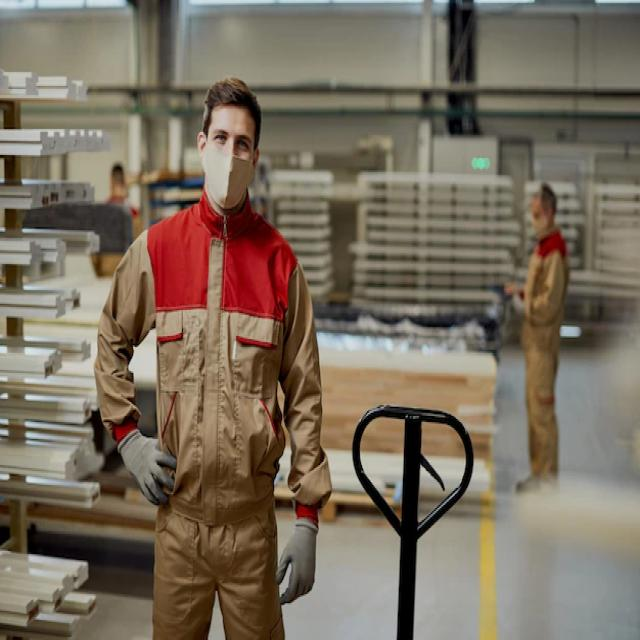Gloves: (118, 428, 176, 504), (275, 516, 318, 603)
Mask: (201, 141, 252, 208)
No Earmuff: (192, 130, 208, 166), (249, 148, 264, 172)
No Hardhat: (202, 77, 261, 147)
Overall Suit: (95, 193, 330, 638)
